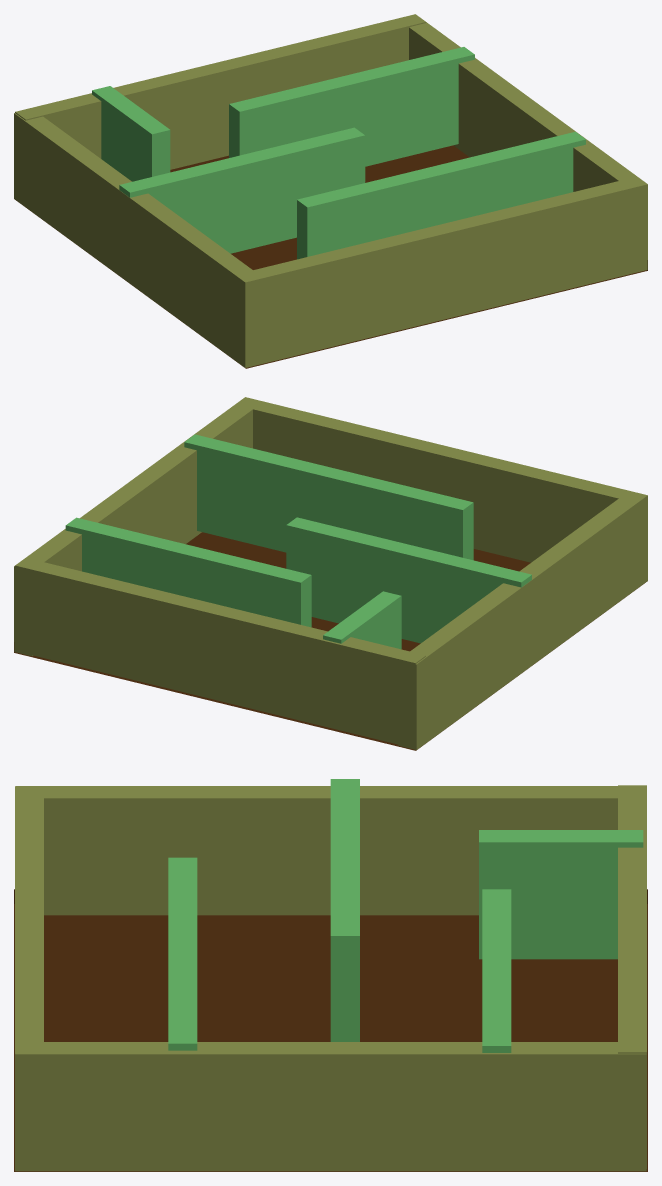
The model's file is level.gltf.
3 views of the same model, one above another, from view 1: azimuth 30°, elevation 25°; view 2: azimuth 150°, elevation 25°; view 3: azimuth 270°, elevation 25° (orthographic). The views are drawn at different scales.
Parts seen in each view (by area): view 1: Cube; view 2: Cube; view 3: Cube.
Boxes of the visible parts, <box> form: Cube: <box>14,14,647,368</box>; Cube: <box>14,397,647,750</box>; Cube: <box>14,779,647,1171</box>.
Size of the model in its own units: 9.85 by 2.13 by 9.83.
